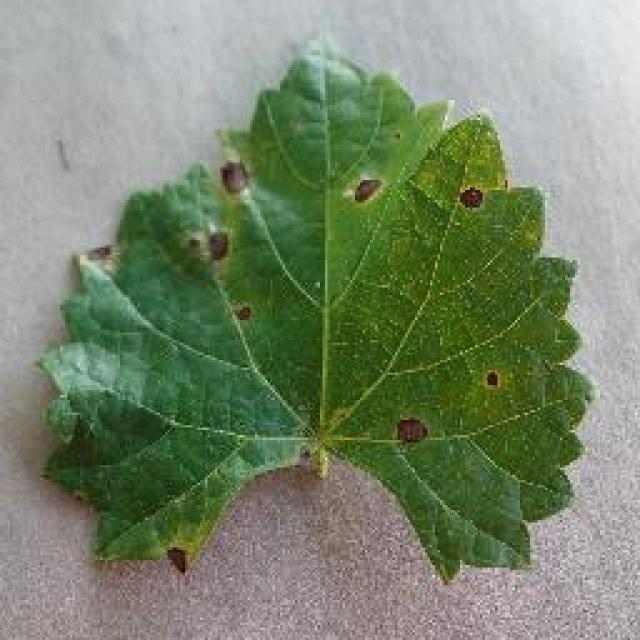Grape___Black_rot: (32, 19, 599, 591)
